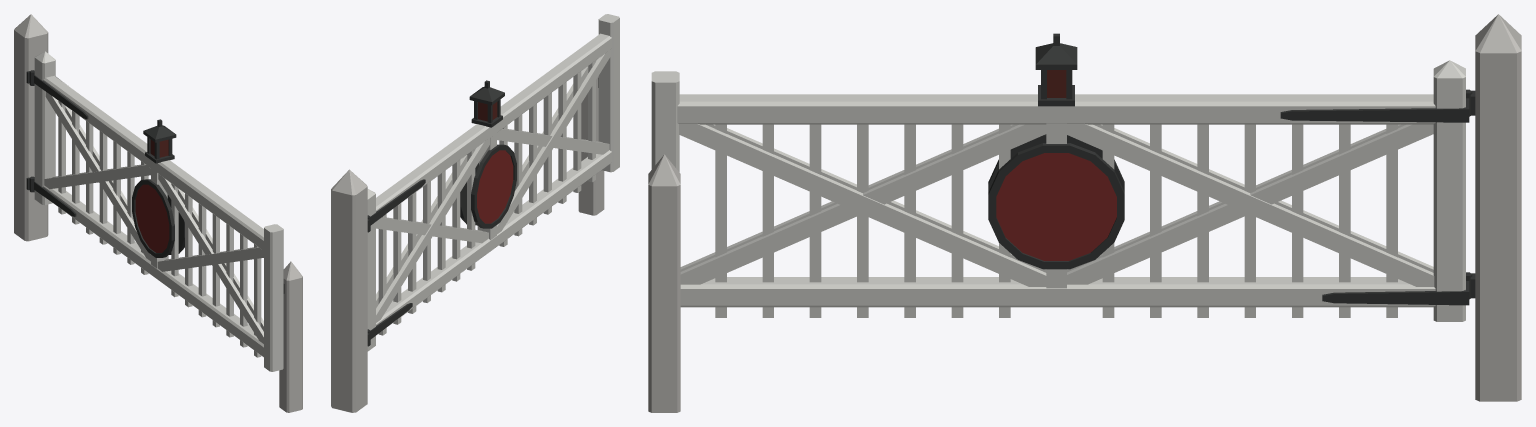
Rendered from crossing-gate-50bcee.glb.
3 views of the same model, side by side, from view 1: azimuth 30°, elevation 25°; view 2: azimuth 150°, elevation 25°; view 3: azimuth 270°, elevation 25° (orthographic). The views are drawn at different scales.
Visible parts, largest first — view 1: leaf, posts; view 2: leaf, posts; view 3: leaf, posts.
Boxes of the visible parts, x1,y1,x2,y2 form: leaf: (29,51,283,371); posts: (14,14,302,412); leaf: (367,14,619,351); posts: (331,76,604,412); leaf: (651,33,1472,321); posts: (648,14,1521,412).
Bounding box in the file's own units: 0.315 × 1.8 × 3.77.
